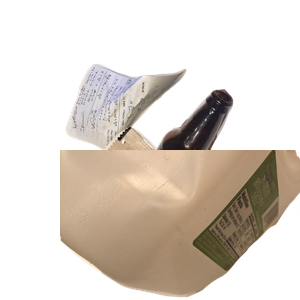glass: (130, 87, 300, 267)
paper: (63, 61, 242, 206)
plastic: (60, 150, 300, 300)
trash: (59, 124, 273, 300)
